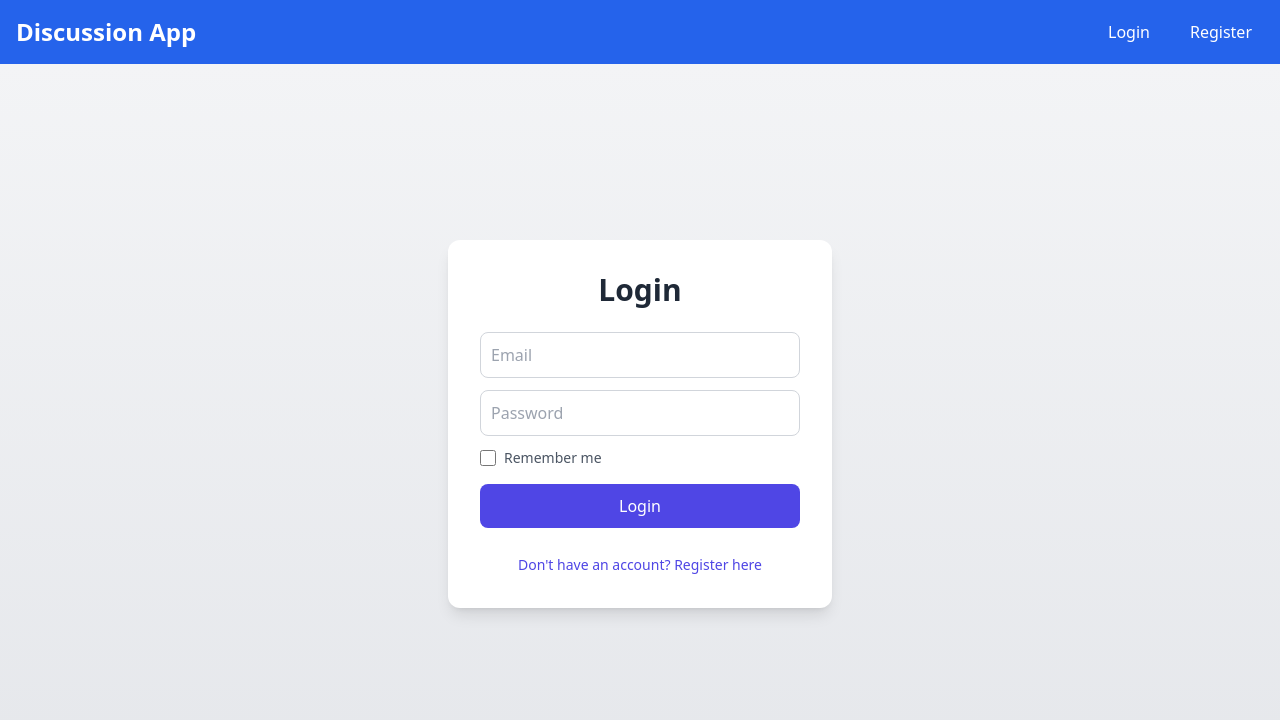
Test case: Login Page › shows validation errors for empty fields
Click the login button without filling the form
What coordinates should you click on to do the following:
click the button "Login"
I would click on:
 (640, 506)
Its box is [480,484,800,528].
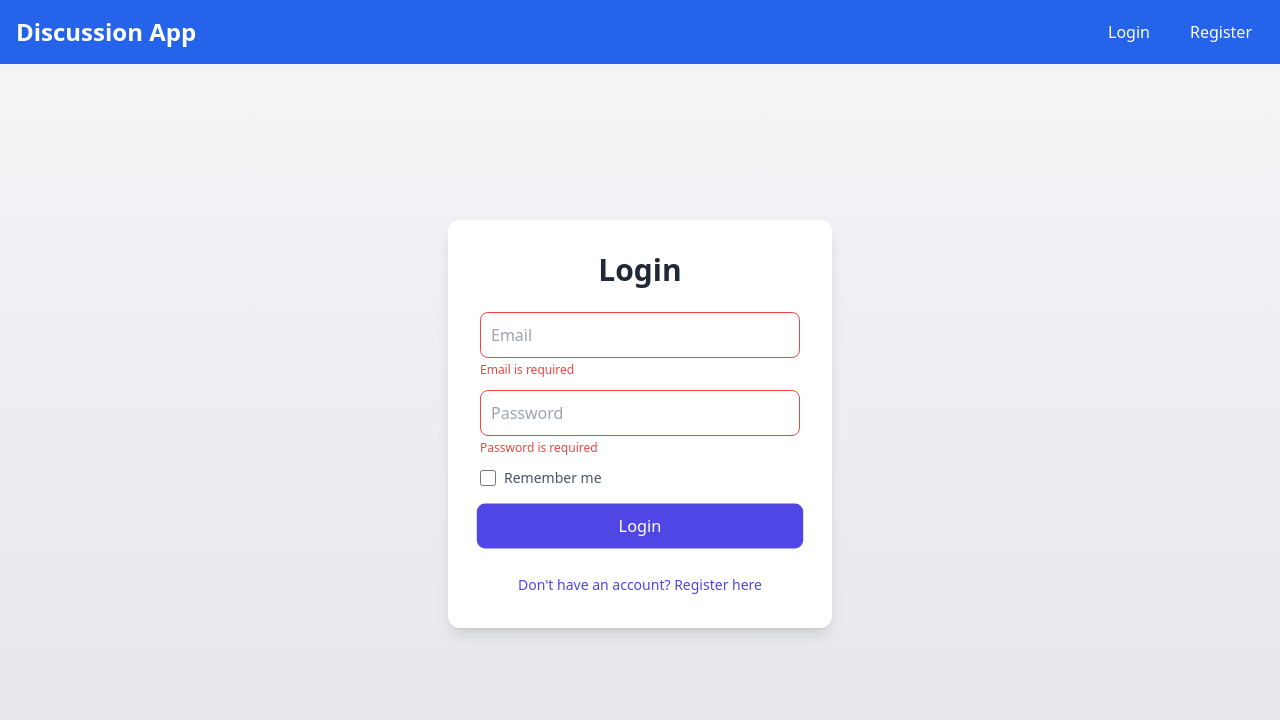
Now the text "Email is required" is shown, box [480,361,574,378]
Now the text "Password is required" is shown, box [480,439,598,456]
